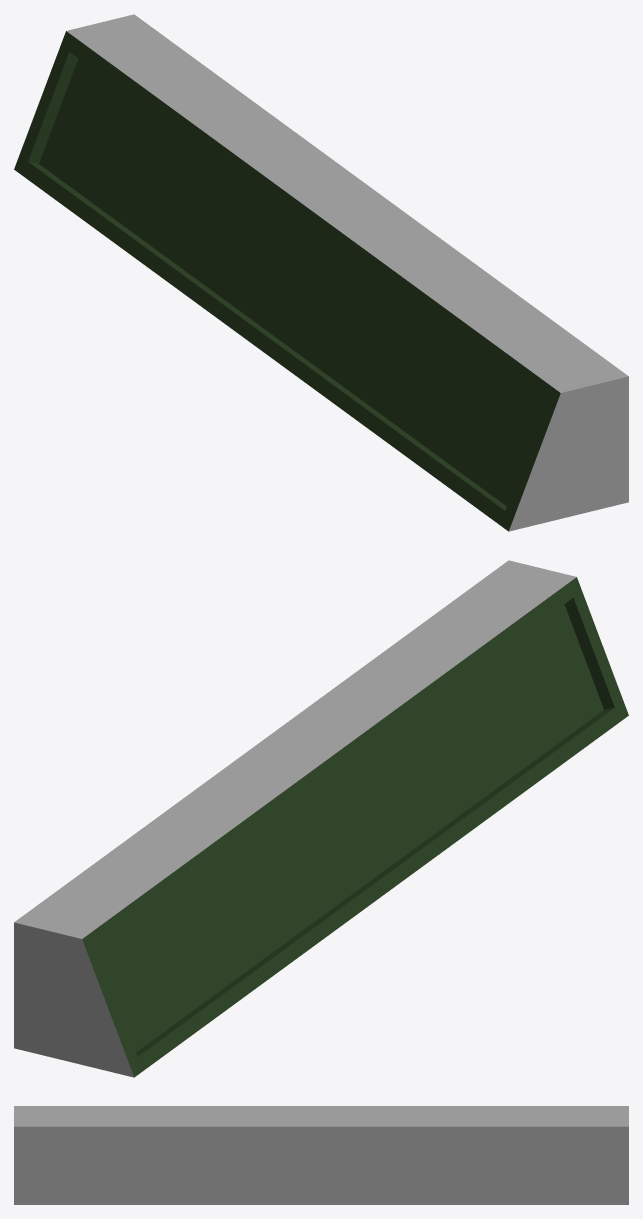
Rendered from SoulCounter.fbx.
The picture shows the model from 3 angles, top to bottom: view 1: azimuth 30°, elevation 25°; view 2: azimuth 150°, elevation 25°; view 3: azimuth 270°, elevation 25°; orthographic projection. The views are drawn at different scales.
Visible parts, largest first — view 1: SoulCounter; view 2: SoulCounter; view 3: SoulCounter.
Part boxes in pixels (left/top/right/bottom): SoulCounter: left=14, top=14, right=628, bottom=531; SoulCounter: left=14, top=560, right=628, bottom=1077; SoulCounter: left=14, top=1106, right=628, bottom=1204.
Size of the model in its own units: 0.2 by 0.2 by 1.42.
